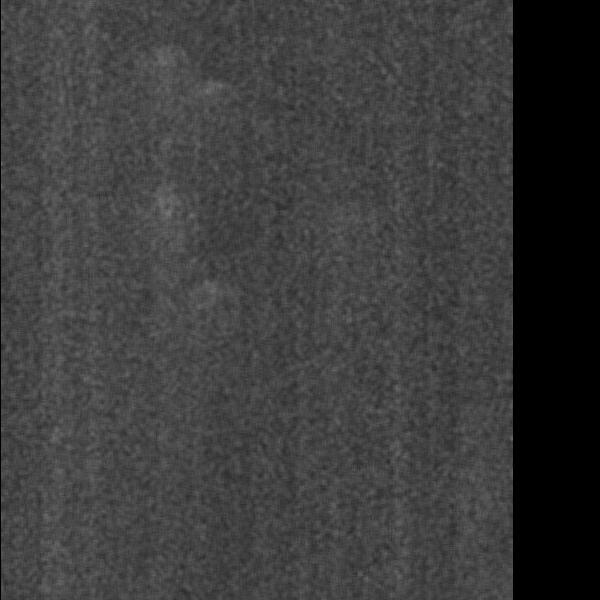spark: (173, 14, 229, 49), (4, 178, 40, 219)
